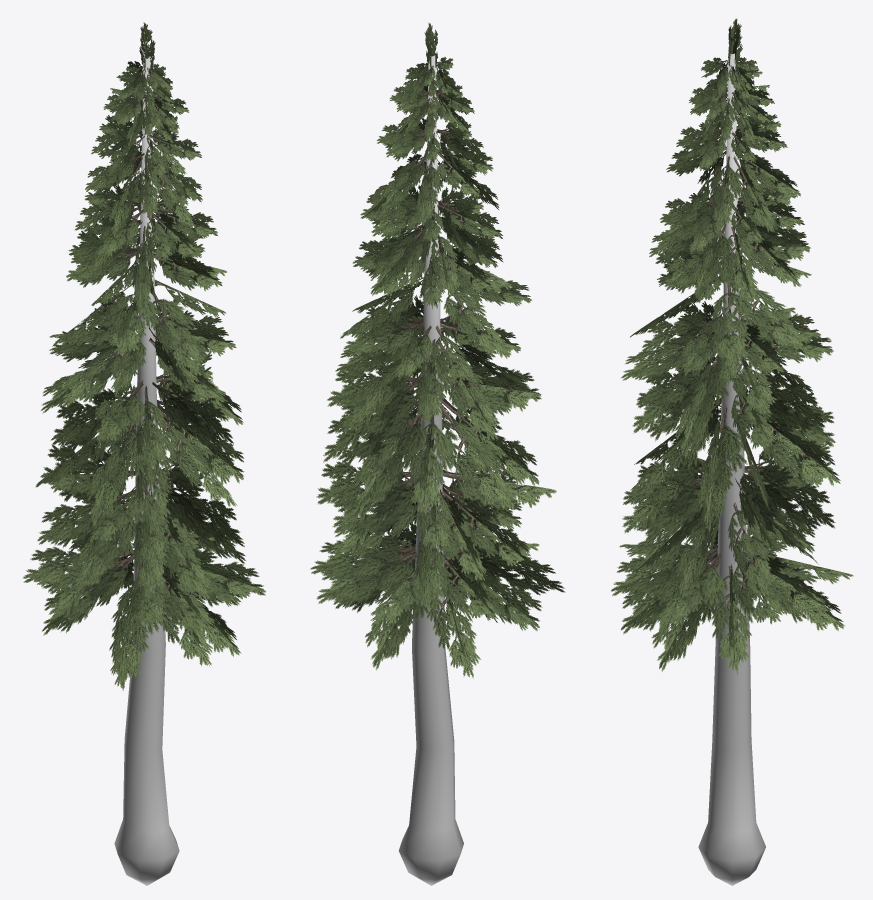
File: Pine_03.fbx
3 views of the same model, side by side, from view 1: azimuth 30°, elevation 25°; view 2: azimuth 150°, elevation 25°; view 3: azimuth 270°, elevation 25° (orthographic).
Parts seen in each view (by area): view 1: polySurface1; view 2: polySurface1; view 3: polySurface1.
Boxes of the visible parts, bbox=[...] form: polySurface1: bbox=[22, 22, 265, 885]; polySurface1: bbox=[310, 23, 565, 885]; polySurface1: bbox=[611, 18, 853, 885].
Bounding box in the file's own units: 4.42 × 15.49 × 4.17.
